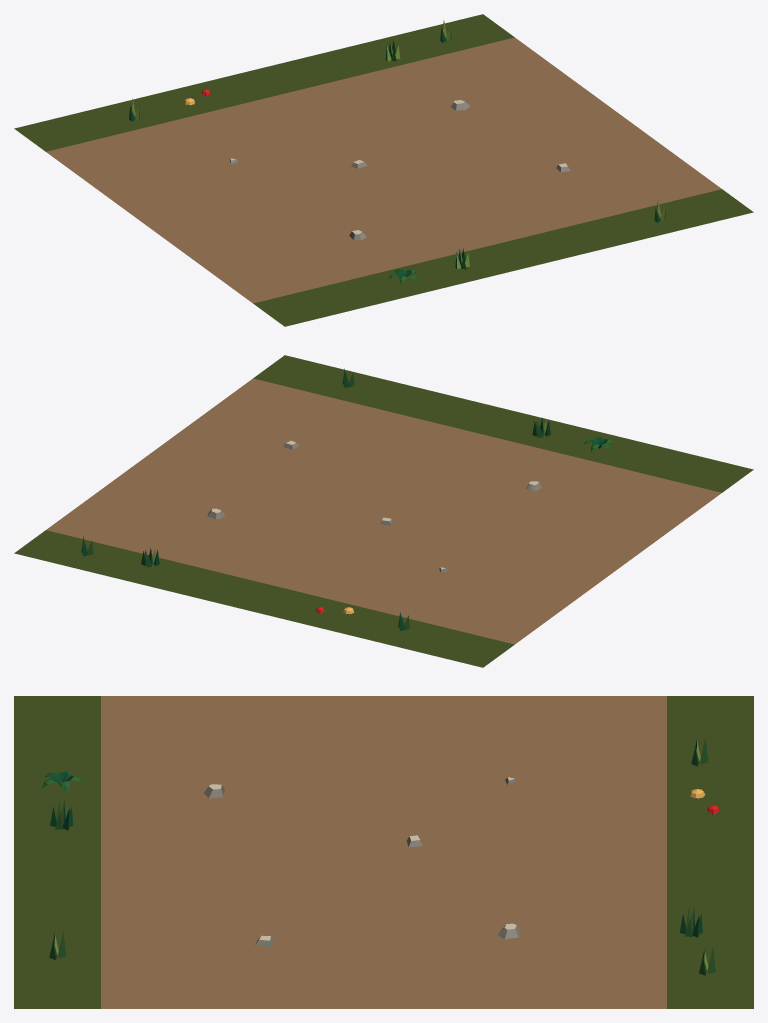
File: TB_Env_GroundCA.FBX
3 views of the same model, one above another, from view 1: azimuth 30°, elevation 25°; view 2: azimuth 150°, elevation 25°; view 3: azimuth 270°, elevation 25° (orthographic). The views are drawn at different scales.
Visible parts, largest first — view 1: TB_Env_GroundCA; view 2: TB_Env_GroundCA; view 3: TB_Env_GroundCA.
Part boxes in pixels (x1,y1,x2,y2): TB_Env_GroundCA: (14,14,753,326); TB_Env_GroundCA: (14,355,753,667); TB_Env_GroundCA: (14,696,753,1008).
Size of the model in its own units: 10 by 0.394 by 10.
